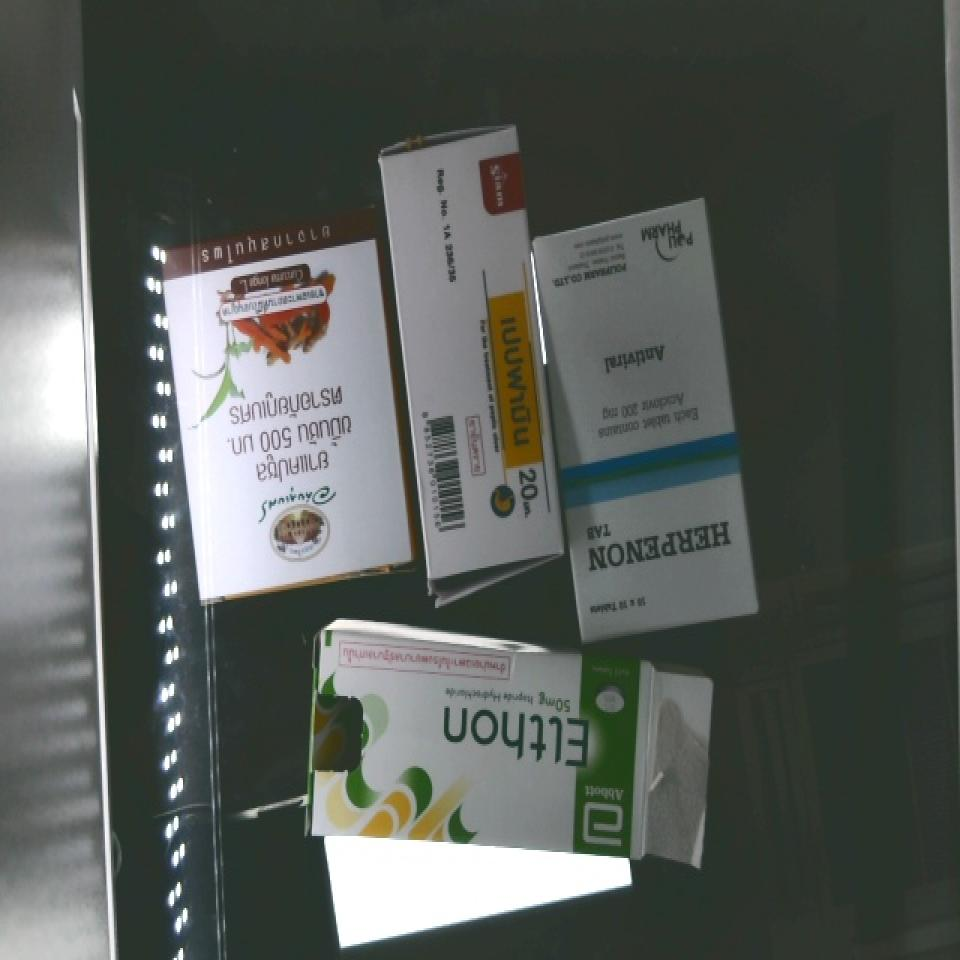medicine_box: (294, 624, 729, 890), (156, 208, 420, 604), (525, 201, 761, 639), (379, 130, 567, 582)
medicine_label_obb: (202, 362, 387, 501), (563, 483, 758, 594), (477, 282, 552, 532), (429, 696, 607, 786)
